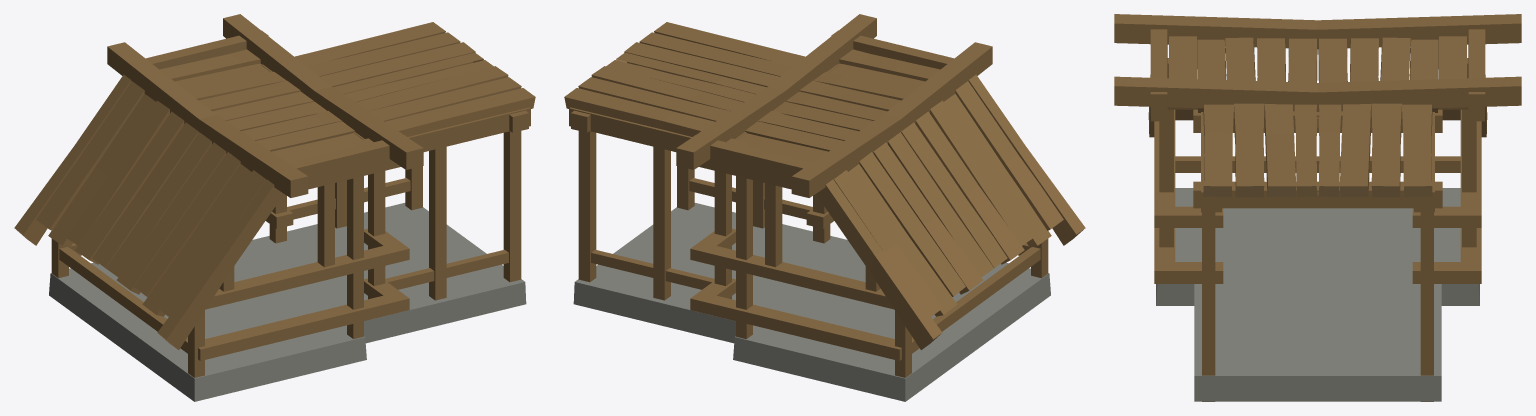
The model's file is quaternius-ultimate-fantasy-rts-houses-firstage-2-level-2.glb.
3 renders of one model, left to right at view 1: azimuth 30°, elevation 25°; view 2: azimuth 150°, elevation 25°; view 3: azimuth 270°, elevation 25°, orthographic. The views are drawn at different scales.
Parts seen in each view (by area): view 1: Houses_FirstAge_2_Level2; view 2: Houses_FirstAge_2_Level2; view 3: Houses_FirstAge_2_Level2.
Part boxes in pixels (x1,y1,x2,y2): Houses_FirstAge_2_Level2: [14, 14, 535, 401]; Houses_FirstAge_2_Level2: [564, 14, 1085, 401]; Houses_FirstAge_2_Level2: [1114, 14, 1521, 401].
Bounding box in the file's own units: 1.46 × 0.7685 × 1.17.
